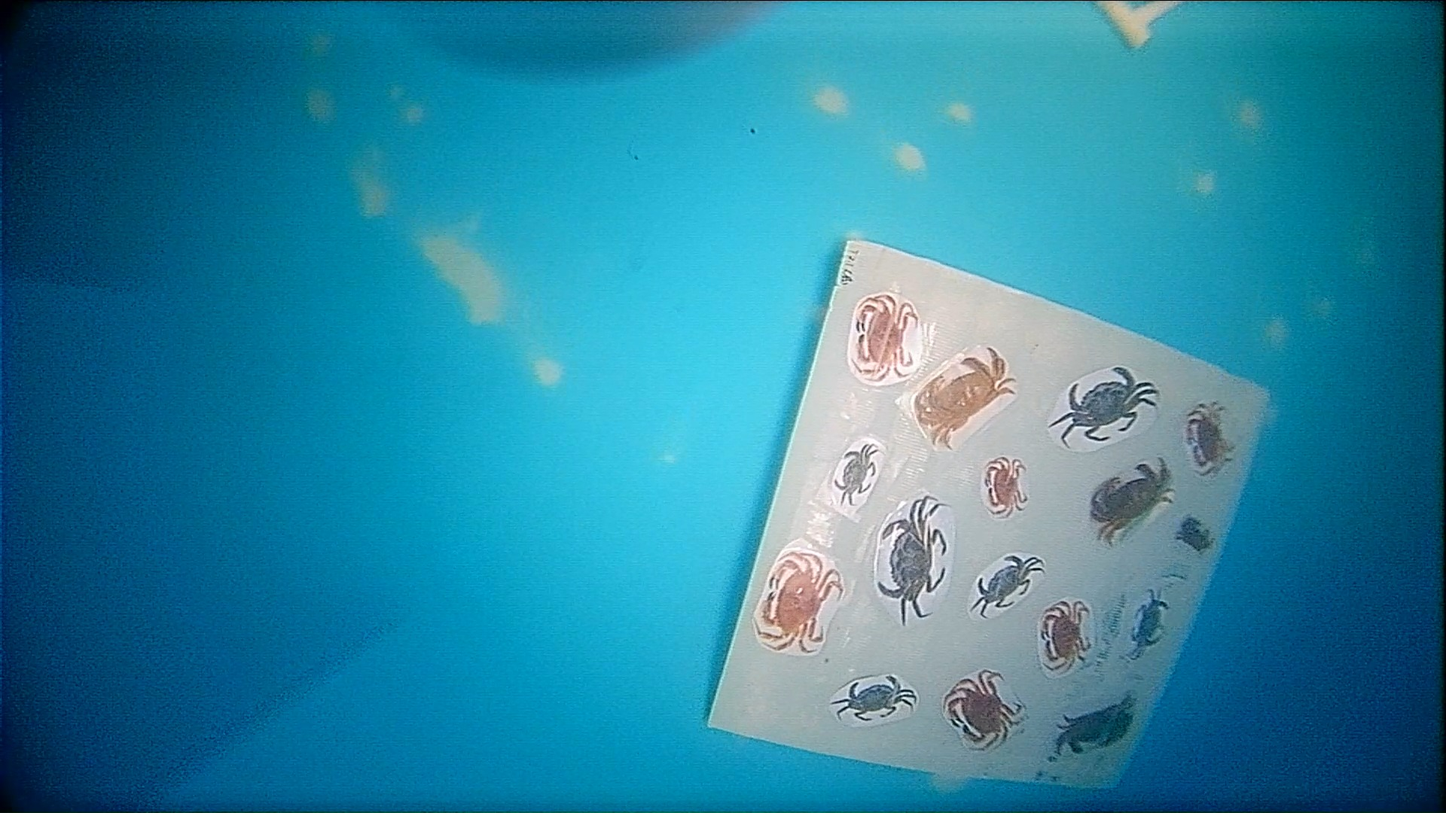GreenCrab: (876, 497, 947, 625), (1048, 367, 1158, 446), (971, 555, 1043, 617), (831, 675, 917, 720)
